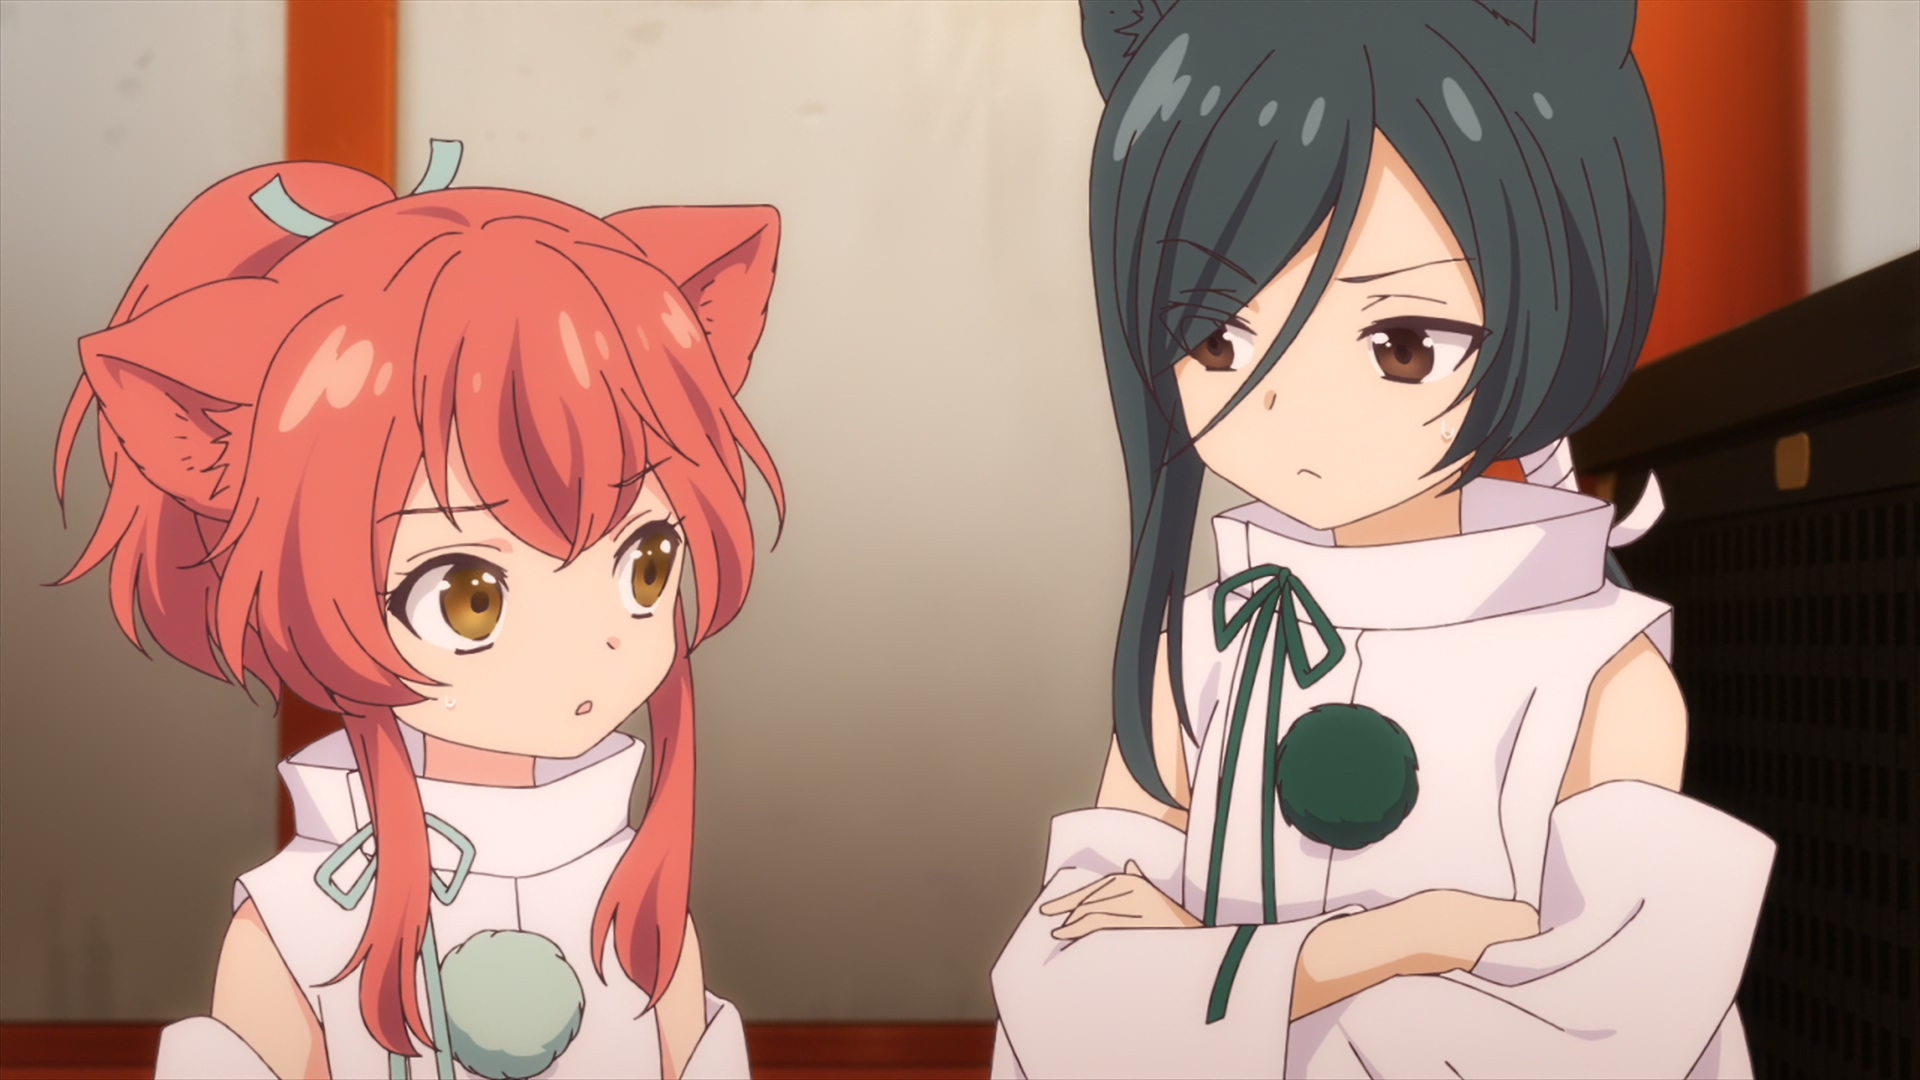其他: (990, 1, 1776, 1080)
椿: (42, 138, 787, 1080)
